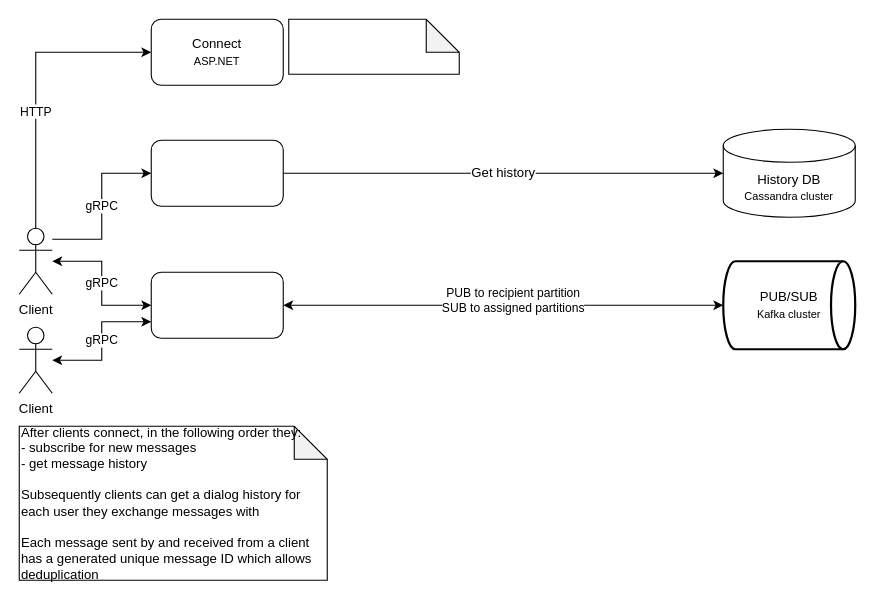
The diagram is 876 pixels wide and 602 high, and some of its shapes have lost their labels. Each missing label, with the box of its shape:
Each client is returned: - the History server - the Messaging server: (288, 18, 459, 74)
History ASP.NET: (150, 139, 283, 206)
Messaging ASP.NET: (150, 271, 283, 338)
